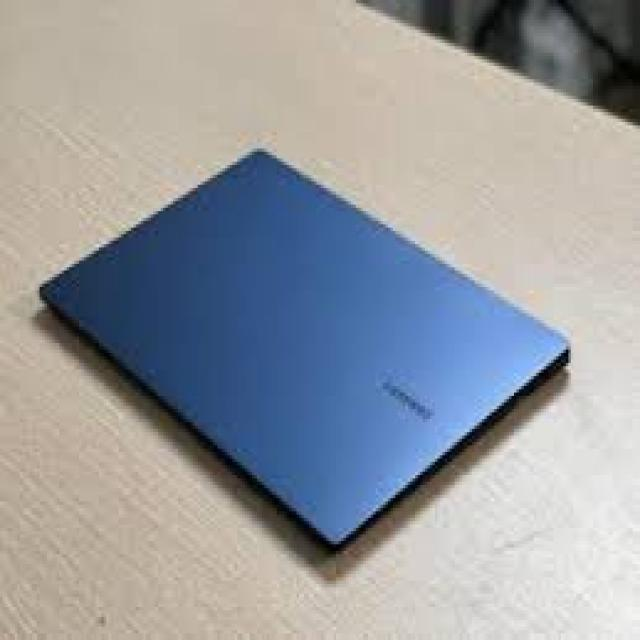laptop: (37, 142, 571, 551)
